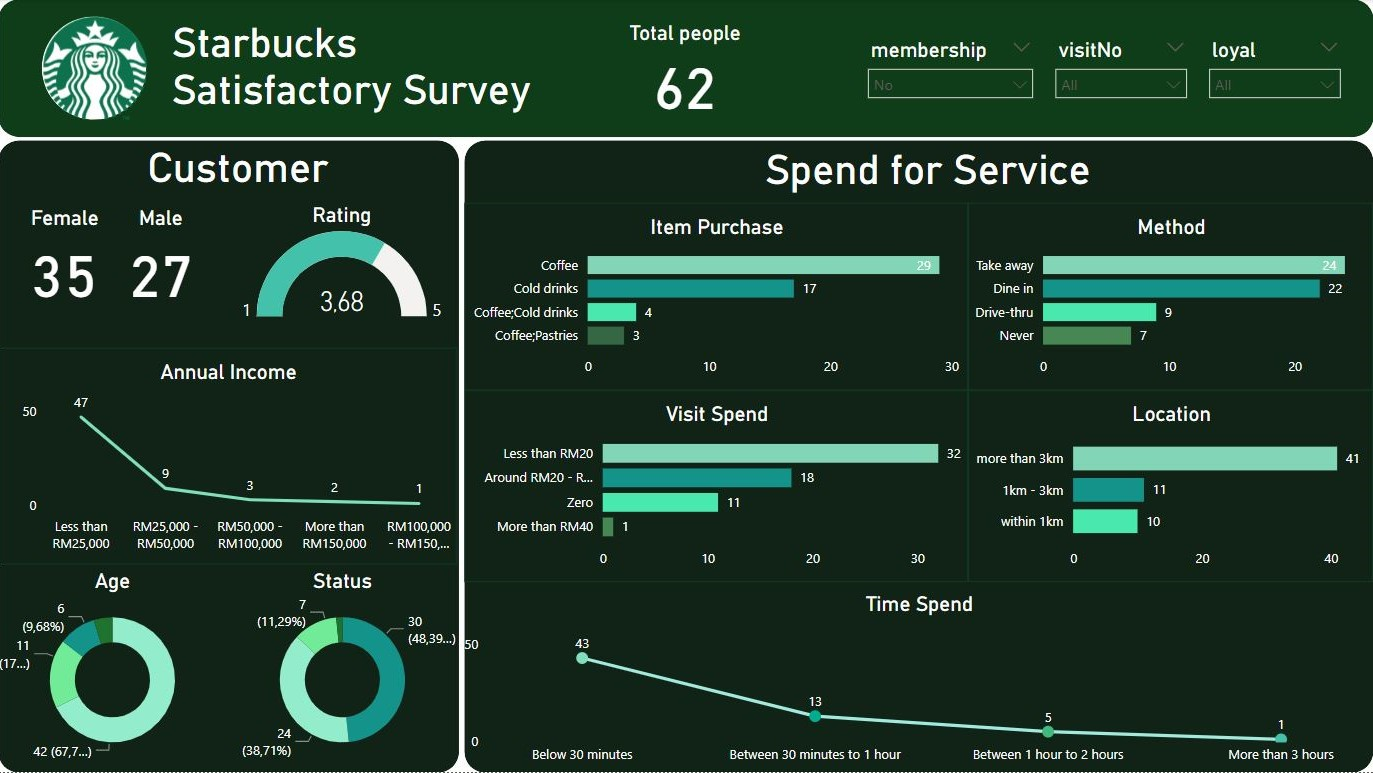

What the dashboard file says about the page in this screenshot:
{"tool":"powerbi","page":{"name":"survey","canvas":[1280,720],"ordinal":0},"visuals":[{"type":"shape","box":[0,0,1280,128.6],"z":0},{"type":"shape","box":[0,131.4,429,588.6],"z":1000},{"type":"donutChart","title":"Status","fields":{"Category":["starbucks.status"],"Y":["CountNonNull(starbucks.status)"]},"box":[214.3,525.7,212.9,194.3],"z":2000},{"type":"donutChart","title":"Age","fields":{"Category":["starbucks.age"],"Y":["CountNonNull(starbucks.age)"]},"box":[0,525.7,212.9,194.3],"z":3000},{"type":"gauge","title":"Rating","fields":{"Y":["Avg(starbucks.sales-promoteDecision)"],"MinValue":["Min(starbucks.serviceRate)"],"MaxValue":["Max(starbucks.ambianceRate)"]},"box":[212.9,190,214.3,115.7],"z":4000},{"type":"card","title":"Total people","fields":{"Values":["CountNonNull(starbucks.age)"]},"box":[570,21.4,138.6,90],"z":5000},{"type":"slicer","fields":{"Values":["starbucks.loyal"]},"box":[1115.7,31.4,142.9,71.4],"z":6000},{"type":"slicer","fields":{"Values":["starbucks.membershipCard"]},"box":[798.6,31.4,174.3,71.4],"z":7000},{"type":"textbox","box":[157.1,12.9,377.1,107.1],"z":8000},{"type":"shape","box":[37.1,12.9,104.3,102.9],"z":9000},{"type":"simpleImageEBC4593F96F1425FB3D84C5BF02B5075","fields":{"imageURL":["logo (2).img"]},"box":[37.1,11.4,114.3,107.1],"z":10000},{"type":"slicer","fields":{"Values":["starbucks.visitNo"]},"box":[972.9,31.4,142.9,71.4],"z":11000},{"type":"textbox","box":[72.9,128.6,300,61.4],"z":12000},{"type":"card","title":"Female","fields":{"Values":["CountNonNull(starbucks.gender)"]},"box":[18.6,192.9,87.1,95.7],"z":13000},{"type":"card","title":"Male","fields":{"Values":["CountNonNull(starbucks.gender)"]},"box":[105.7,192.9,91.4,95.7],"z":14000},{"type":"shape","box":[18.6,189.5,174.4,98.8],"z":15000},{"type":"lineChart","title":"Annual Income","fields":{"Category":["starbucks.income"],"Y":["CountNonNull(starbucks.income)"]},"box":[0,324.3,427.1,201.4],"z":16000},{"type":"shape","box":[434.3,131.4,845.7,588.6],"z":17000},{"type":"lineChart","title":"Time Spend","fields":{"Category":["starbucks.timeSpend"],"Y":["CountNonNull(starbucks.timeSpend)"]},"box":[433.7,543,846.5,176.7],"z":18000},{"type":"textbox","box":[450,131.4,830,61.4],"z":19000},{"type":"clusteredBarChart","title":"Visit Spend","fields":{"Category":["starbucks.visitSpend"],"Y":["CountNonNull(starbucks.visitSpend)"]},"box":[434.3,364.3,468.6,178.6],"z":20000},{"type":"clusteredBarChart","title":"Item Purchase","fields":{"Category":["starbucks.itemPurchase"],"Y":["CountNonNull(starbucks.itemPurchase)"]},"box":[434.3,190,468.6,174.3],"z":21000},{"type":"clusteredBarChart","title":"Method","fields":{"Y":["CountNonNull(starbucks.method)"],"Category":["starbucks.method"]},"box":[902.9,190,377.1,174.3],"z":22000},{"type":"clusteredBarChart","title":"Location","fields":{"Category":["starbucks.location"],"Y":["CountNonNull(starbucks.location)"]},"box":[902.9,364.3,377.1,178.6],"z":23000}]}

Visuals, with their boxes in screenshot pixels (x1, y1, x2, y2), scaled from the page's 1280x720 canvas onto the 1373x773 screenshot:
shape: [0, 0, 1372, 138]
shape: [0, 141, 460, 772]
"Status" donutChart: [230, 564, 458, 772]
"Age" donutChart: [0, 564, 228, 772]
"Rating" gauge: [228, 204, 458, 328]
"Total people" card: [611, 23, 760, 120]
slicer - starbucks.loyal: [1197, 34, 1350, 110]
slicer - starbucks.membershipCard: [857, 34, 1044, 110]
textbox: [169, 14, 573, 129]
shape: [40, 14, 152, 124]
simpleImageEBC4593F96F1425FB3D84C5BF02B5075 - logo (2).img: [40, 12, 162, 127]
slicer - starbucks.visitNo: [1044, 34, 1197, 110]
textbox: [78, 138, 400, 204]
"Female" card: [20, 207, 113, 310]
"Male" card: [113, 207, 211, 310]
shape: [20, 203, 207, 310]
"Annual Income" lineChart: [0, 348, 458, 564]
shape: [466, 141, 1372, 772]
"Time Spend" lineChart: [465, 583, 1372, 772]
textbox: [483, 141, 1372, 207]
"Visit Spend" clusteredBarChart: [466, 391, 969, 583]
"Item Purchase" clusteredBarChart: [466, 204, 969, 391]
"Method" clusteredBarChart: [969, 204, 1372, 391]
"Location" clusteredBarChart: [969, 391, 1372, 583]
